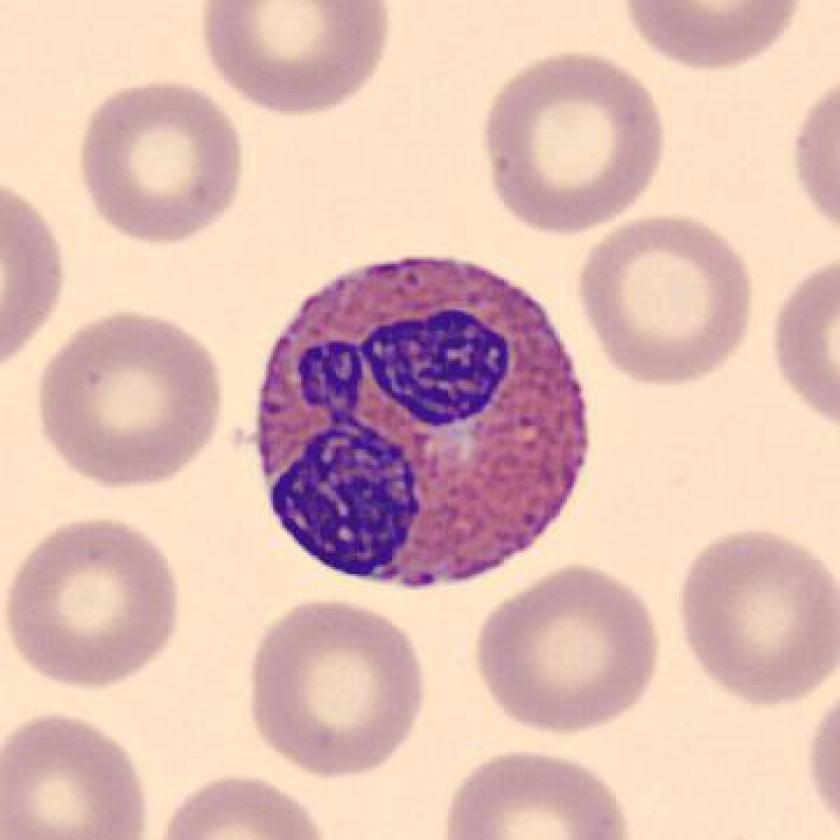eosinophil: (239, 239, 603, 598)
